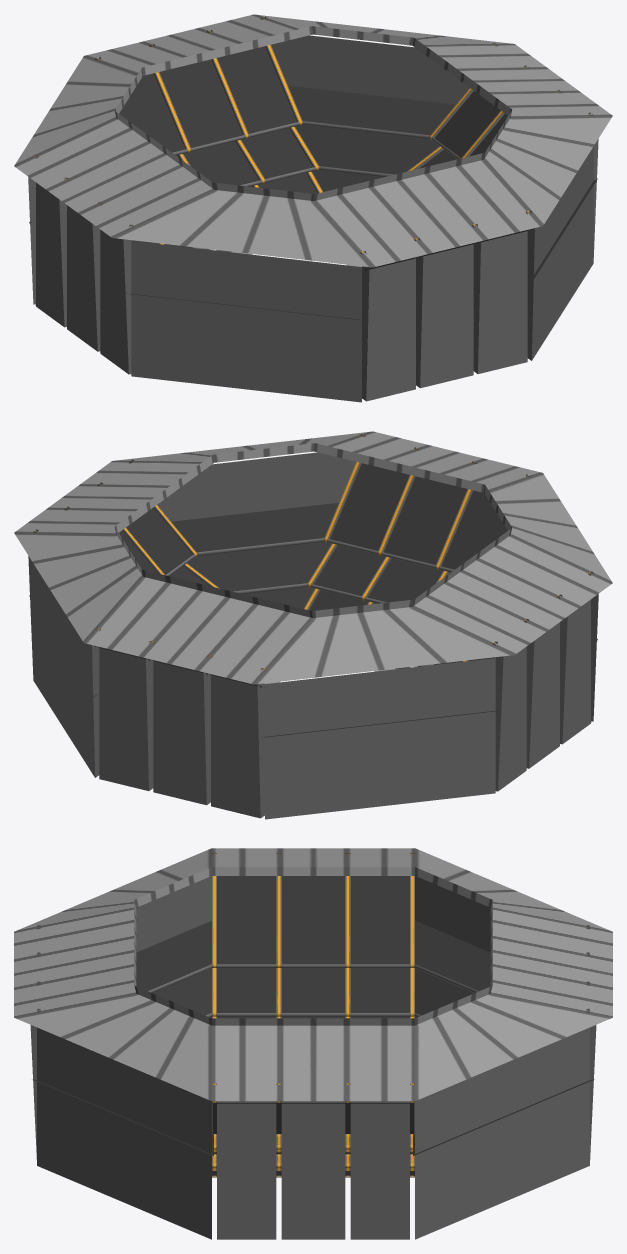
Rendered from Map_V3_ARENA.fbx.
3 views of the same model, one above another, from view 1: azimuth 30°, elevation 25°; view 2: azimuth 150°, elevation 25°; view 3: azimuth 270°, elevation 25° (orthographic). The views are drawn at different scales.
Parts seen in each view (by area): view 1: ARENA_Comb; view 2: ARENA_Comb; view 3: ARENA_Comb.
Part boxes in pixels (left/top/right/bottom): ARENA_Comb: left=14, top=14, right=612, bottom=402; ARENA_Comb: left=14, top=431, right=612, bottom=819; ARENA_Comb: left=14, top=848, right=612, bottom=1239.
Bounding box in the file's own units: 23908 × 7941 × 23908.
1 material, 1 textured.
